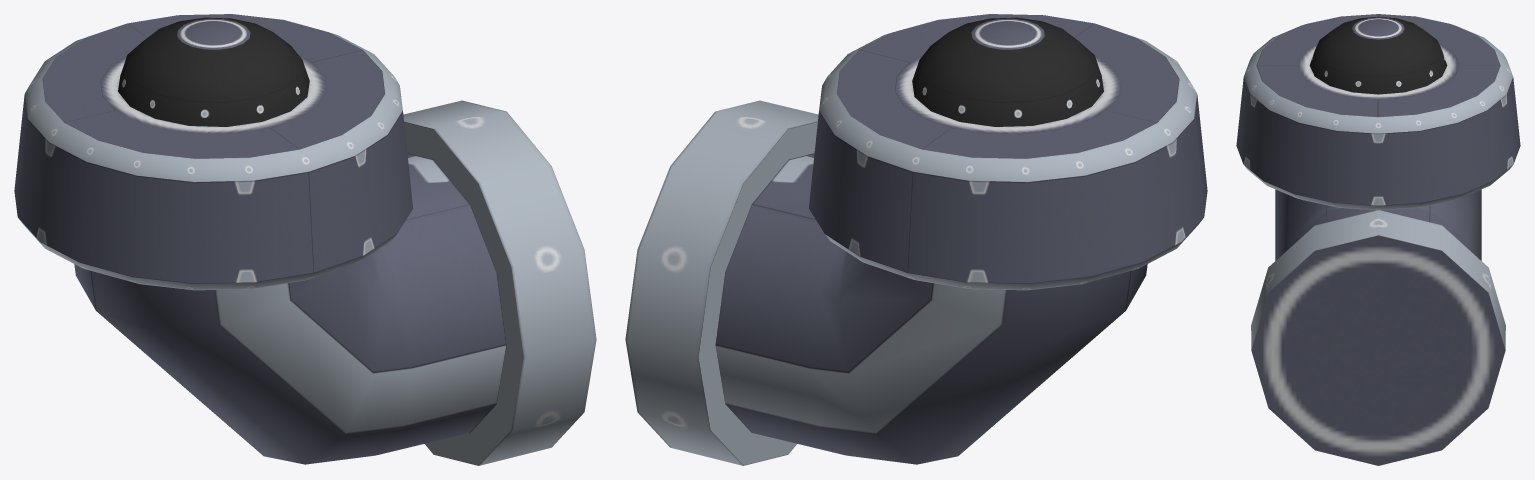
The model's file is Joystick_Support_01.FBX.
3 views of the same model, side by side, from view 1: azimuth 30°, elevation 25°; view 2: azimuth 150°, elevation 25°; view 3: azimuth 270°, elevation 25° (orthographic). The views are drawn at different scales.
Visible parts, largest first — view 1: Joystick_Support_01; view 2: Joystick_Support_01; view 3: Joystick_Support_01.
Boxes of the visible parts, x1,y1,x2,y2 form: Joystick_Support_01: (14,14,596,465); Joystick_Support_01: (625,14,1207,465); Joystick_Support_01: (1236,14,1520,465).
Bounding box in the file's own units: 1.59 × 1.56 × 1.18.
Materials: 2 (2 with a texture image).
